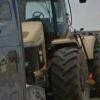Tractor: (20, 12, 97, 96)
